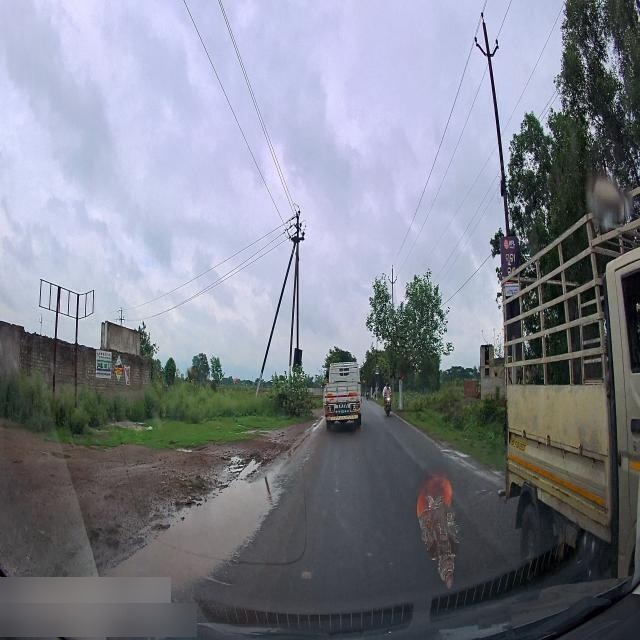pothole: (111, 478, 272, 586), (234, 454, 263, 480), (444, 442, 470, 460)
